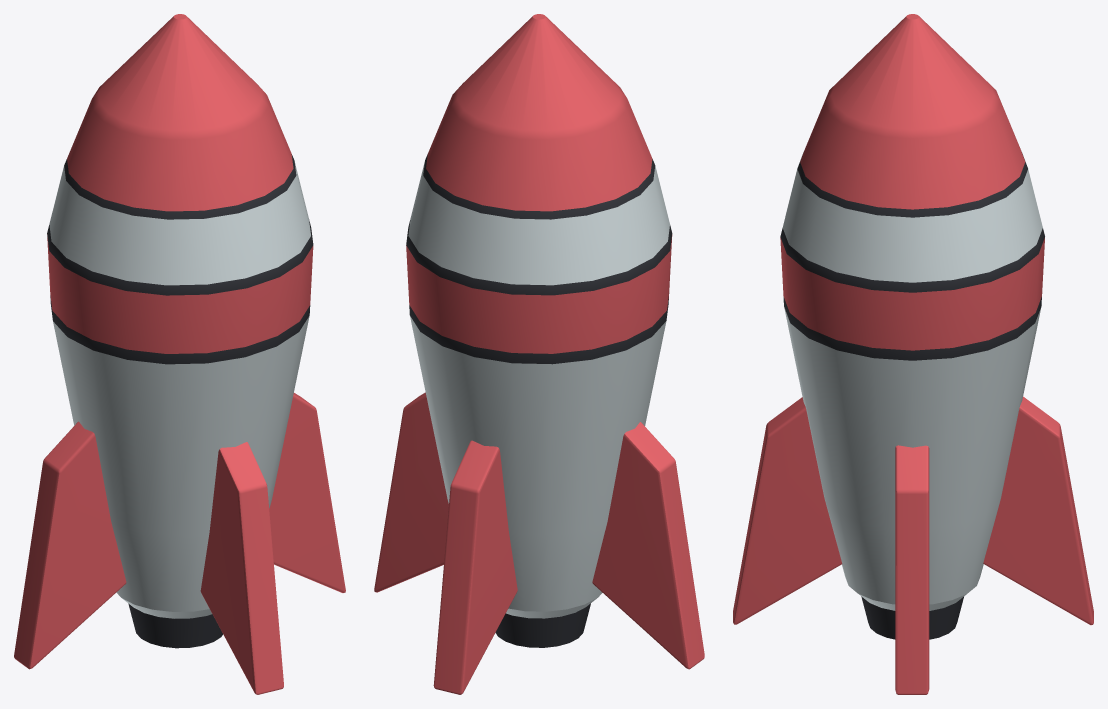
File: Missle.fbx
3 renders of one model, left to right at view 1: azimuth 30°, elevation 25°; view 2: azimuth 150°, elevation 25°; view 3: azimuth 270°, elevation 25°, orthographic.
Parts seen in each view (by area): view 1: pCube5; view 2: pCube5; view 3: pCube5.
Part boxes in pixels (x1=…): pCube5: x1=14, y1=14, x2=345, y2=694; pCube5: x1=374, y1=14, x2=704, y2=694; pCube5: x1=733, y1=14, x2=1093, y2=694.
Bounding box in the file's own units: 5.88 × 10.85 × 5.86.
